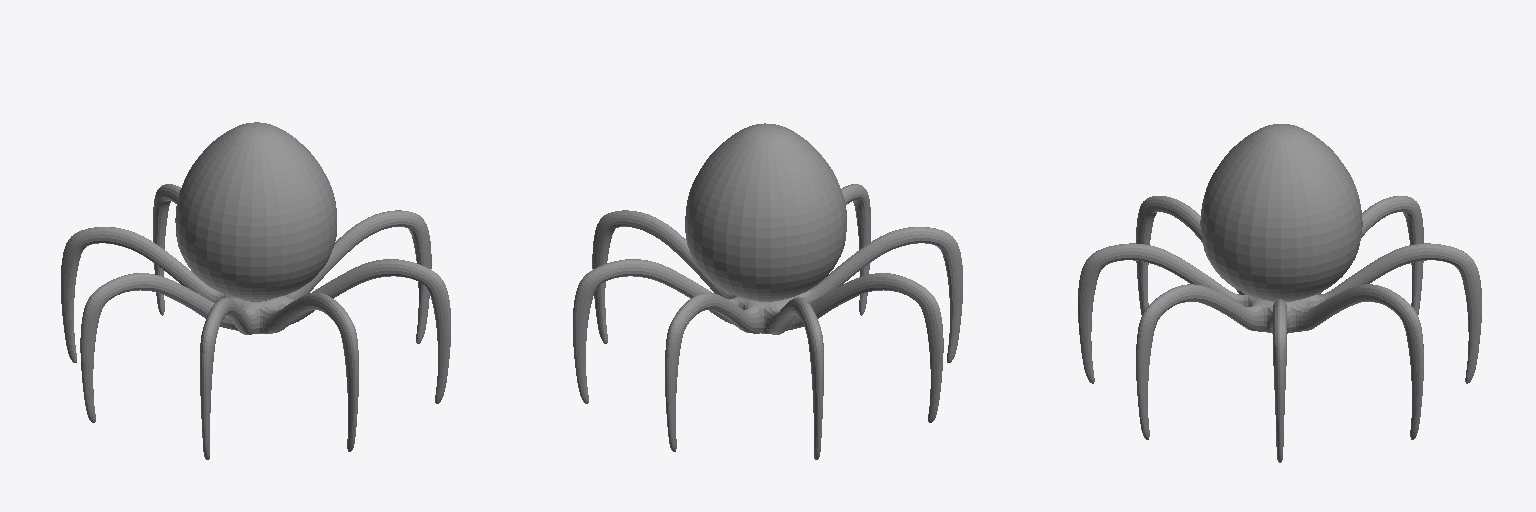
Rendered from HSpider.obj.
3 views of the same model, side by side, from view 1: azimuth 30°, elevation 25°; view 2: azimuth 150°, elevation 25°; view 3: azimuth 270°, elevation 25° (orthographic).
Parts seen in each view (by area): view 1: legs, body; view 2: legs, body; view 3: legs, body.
Part boxes in pixels (left/top/right/bottom): legs: left=61, top=184, right=450, bottom=459; body: left=175, top=122, right=336, bottom=301; legs: left=573, top=184, right=962, bottom=459; body: left=685, top=123, right=846, bottom=301; legs: left=1078, top=196, right=1481, bottom=462; body: left=1200, top=124, right=1362, bottom=301.
Bounding box in the file's own units: 85.64 × 59.77 × 85.64.